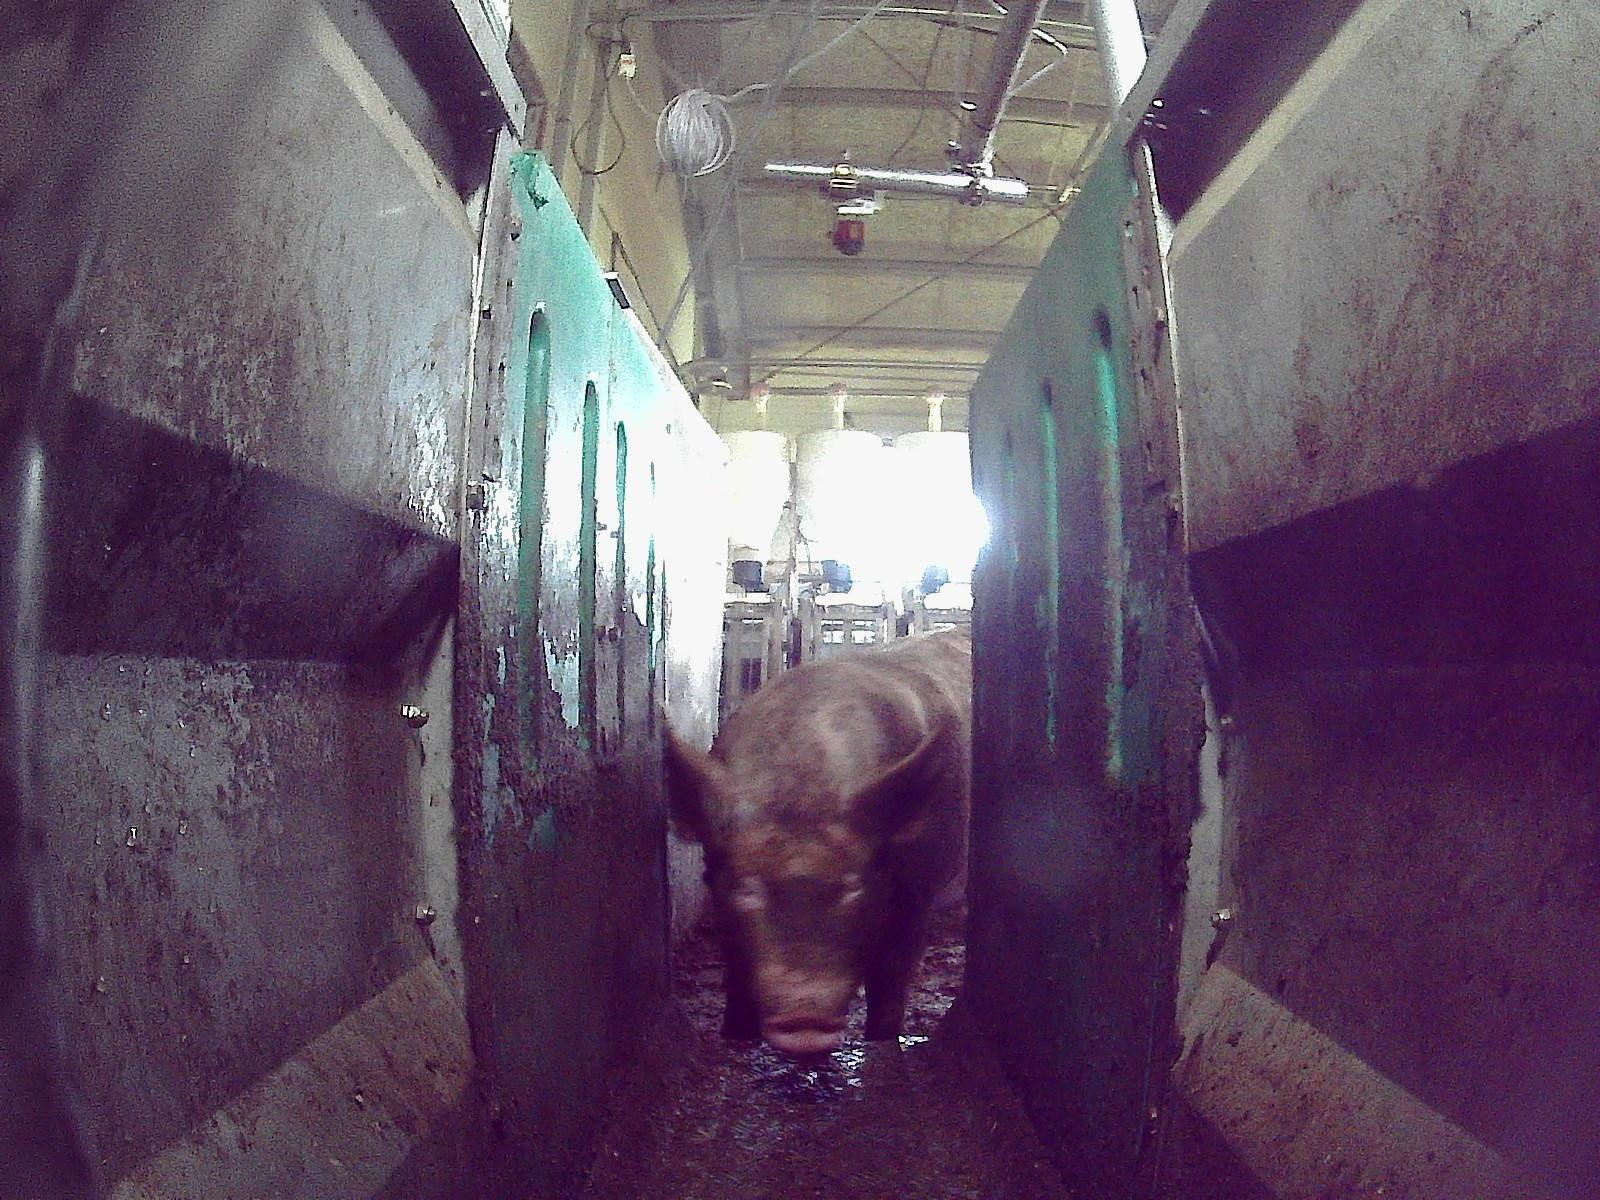Face: (711, 782, 885, 1053)
